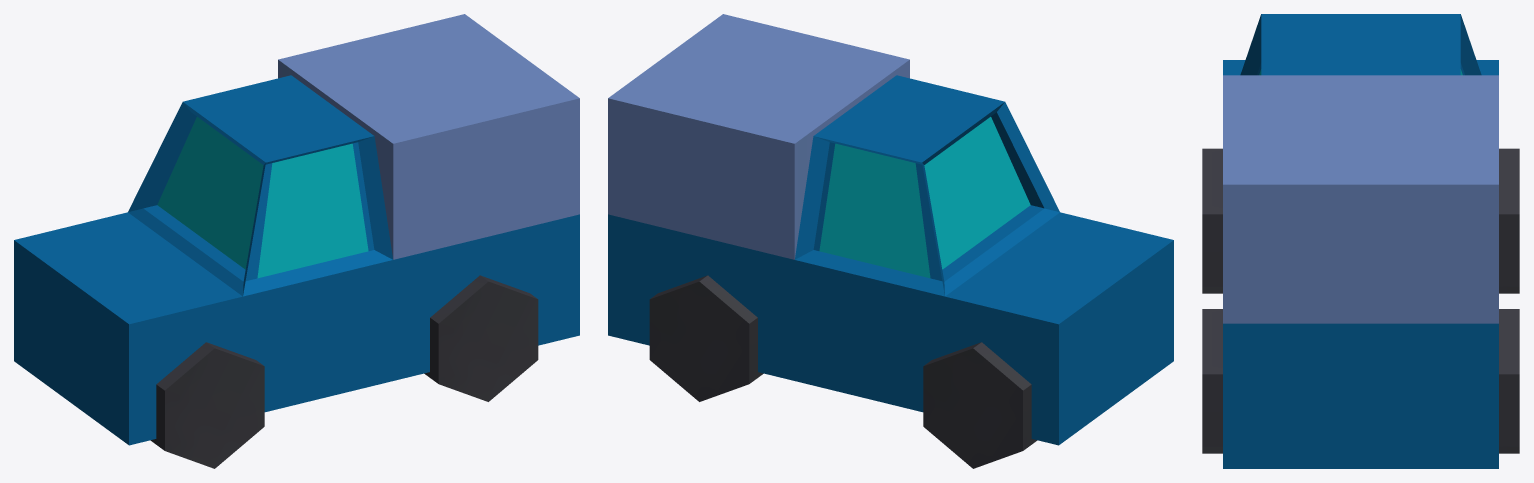
File: Car3.fbx
3 renders of one model, left to right at view 1: azimuth 30°, elevation 25°; view 2: azimuth 150°, elevation 25°; view 3: azimuth 270°, elevation 25°, orthographic. The views are drawn at different scales.
Visible parts, largest first — view 1: Cube.044; view 2: Cube.044; view 3: Cube.044.
Part boxes in pixels (x1,y1,x2,y2): Cube.044: (14,14,579,468); Cube.044: (608,14,1173,468); Cube.044: (1202,14,1519,468).
Size of the model in its own units: 504 by 292 by 256.
